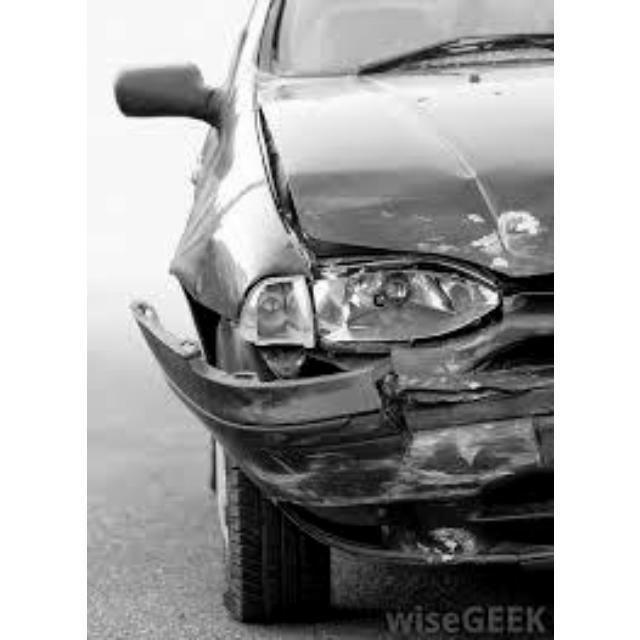bonnet-dent: (267, 107, 546, 289)
front-bumper-dent: (230, 356, 551, 567)
